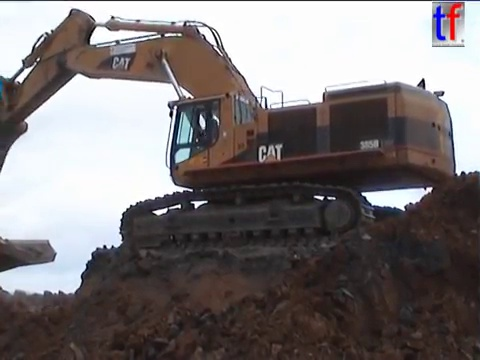excavator: (1, 4, 461, 253)
truck: (1, 234, 59, 276)
